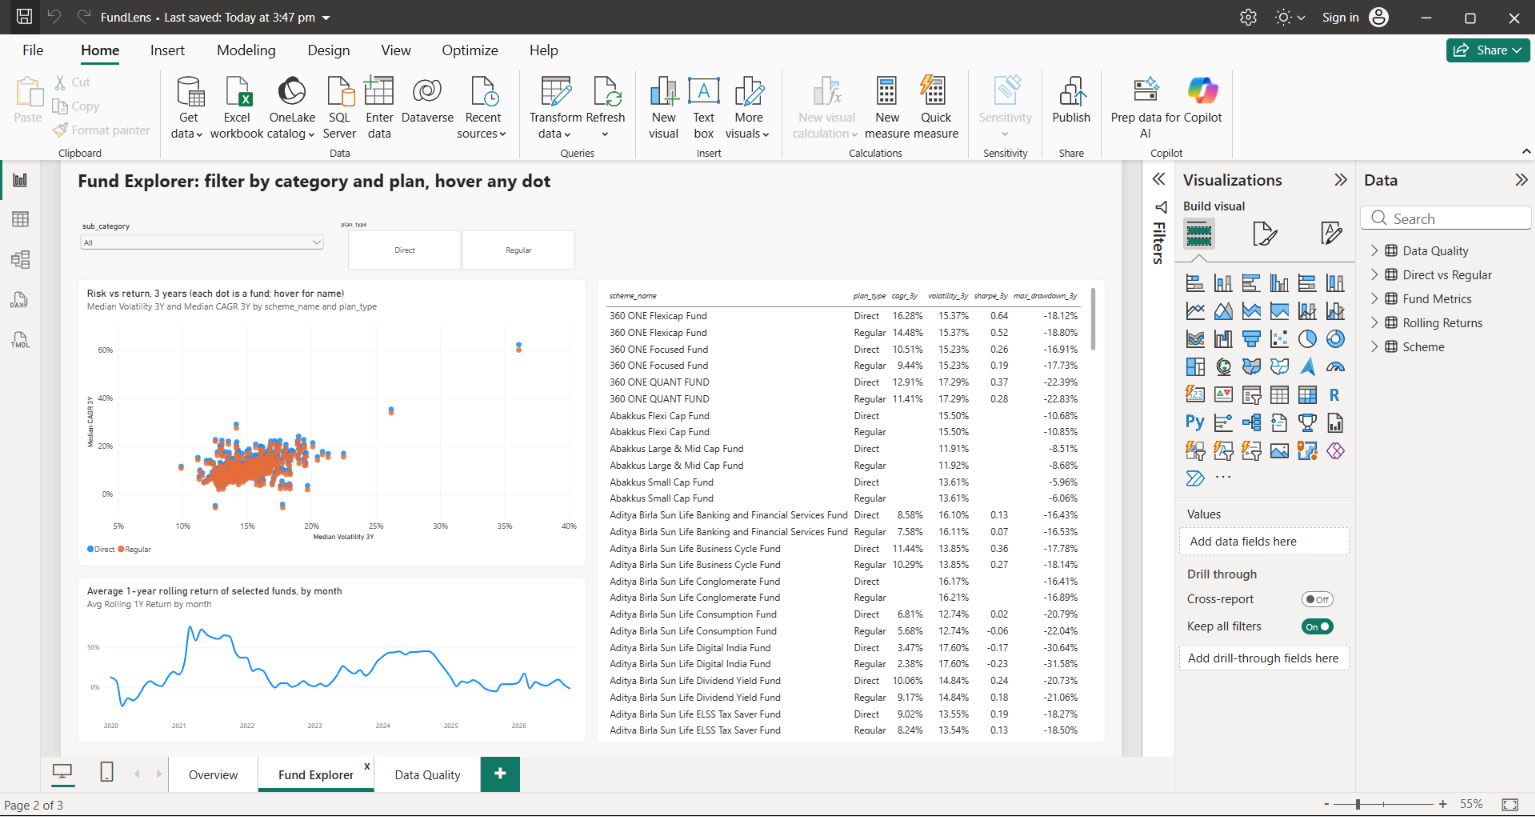

The page's visual inventory and layout, read from the dashboard file:
{"tool":"powerbi","page":{"name":"Fund Explorer","canvas":[1920,1080],"ordinal":1},"visuals":[{"type":"scatterChart","title":"Risk vs return, 3 years (each dot is a fund; hover for name)","fields":{"Category":["Fund Metrics.scheme_name"],"Series":["Fund Metrics.plan_type"],"X":["Fund Metrics.Median Volatility 3Y"],"Y":["Fund Metrics.Median CAGR 3Y"]},"box":[30,215,920,520],"z":0},{"type":"tableEx","fields":{"Values":["Fund Metrics.scheme_name","Fund Metrics.plan_type","Fund Metrics.cagr_3y","Fund Metrics.volatility_3y","Fund Metrics.sharpe_3y","Fund Metrics.max_drawdown_3y"]},"box":[970,215,920,840],"z":1},{"type":"slicer","fields":{"Values":["Fund Metrics.sub_category"]},"box":[30,110,450,90],"z":2},{"type":"slicer","fields":{"Values":["Fund Metrics.plan_type"]},"box":[500,110,450,90],"z":3},{"type":"lineChart","title":"Average 1-year rolling return of selected funds, by month","fields":{"Category":["Rolling Returns.month"],"Y":["Rolling Returns.Avg Rolling 1Y Return"]},"box":[30,755,920,300],"z":4},{"type":"textbox","box":[30,15,1860,80],"z":5}]}

Visuals, with their boxes on the page's 1920x1080 design canvas (x1, y1, x2, y2). These are canvas units, not pixel positions in the 1535x817 screenshot, which may show the page scaled, cropped or inside an application window:
"Risk vs return, 3 years (each dot is a fund; hover for name)" scatterChart: bbox(30, 215, 950, 735)
tableEx - Fund Metrics.scheme_name x Fund Metrics.plan_type: bbox(970, 215, 1890, 1055)
slicer - Fund Metrics.sub_category: bbox(30, 110, 480, 200)
slicer - Fund Metrics.plan_type: bbox(500, 110, 950, 200)
"Average 1-year rolling return of selected funds, by month" lineChart: bbox(30, 755, 950, 1055)
textbox: bbox(30, 15, 1890, 95)
